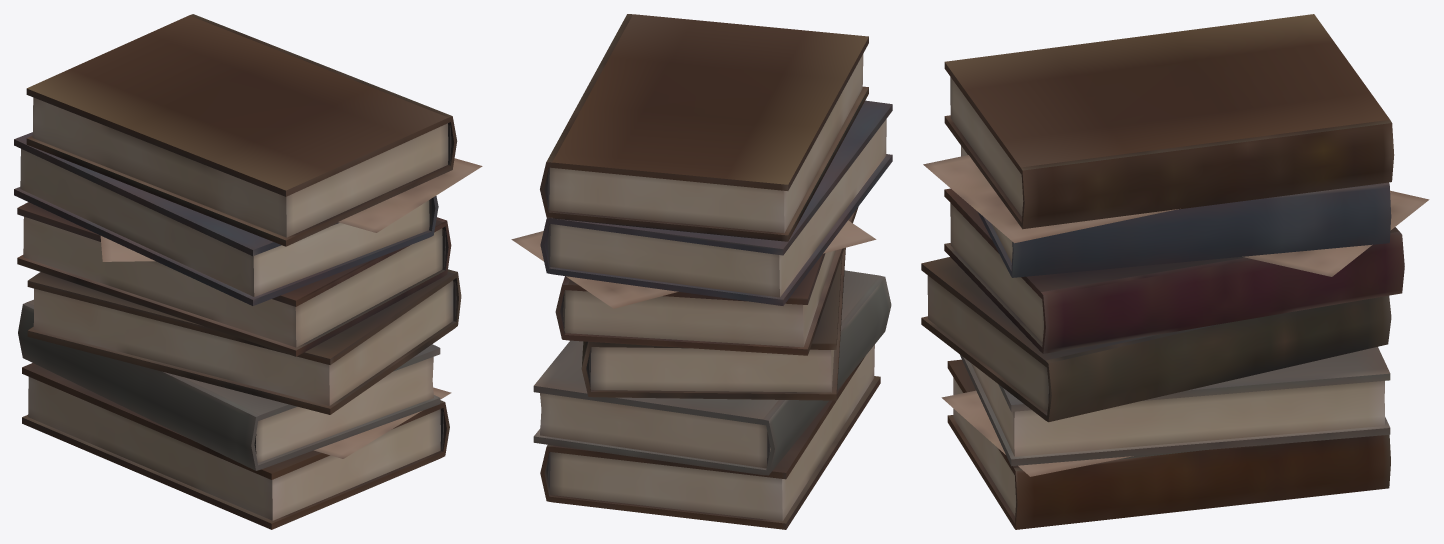
The model's file is book-pile-floor-small.lod1.glb.
3 views of the same model, side by side, from view 1: azimuth 30°, elevation 25°; view 2: azimuth 150°, elevation 25°; view 3: azimuth 270°, elevation 25° (orthographic). The views are drawn at different scales.
Visible parts, largest first — view 1: book-pile-floor-small; view 2: book-pile-floor-small; view 3: book-pile-floor-small.
Boxes of the visible parts, x1,y1,x2,y2 form: book-pile-floor-small: (14, 14, 482, 529); book-pile-floor-small: (511, 14, 892, 529); book-pile-floor-small: (921, 14, 1429, 529).
Size of the model in its own units: 0.2615 by 0.2463 by 0.3089.
Materials: 1 (1 with a texture image).
